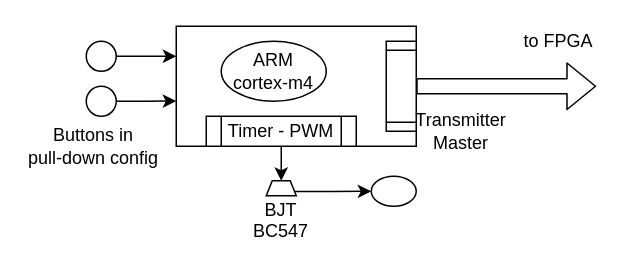
This 621x269 diagram has some shape labels left out. Each missing label, with the centre of its shape:
PIEZO: [393,190]
SPI: [400,85]
